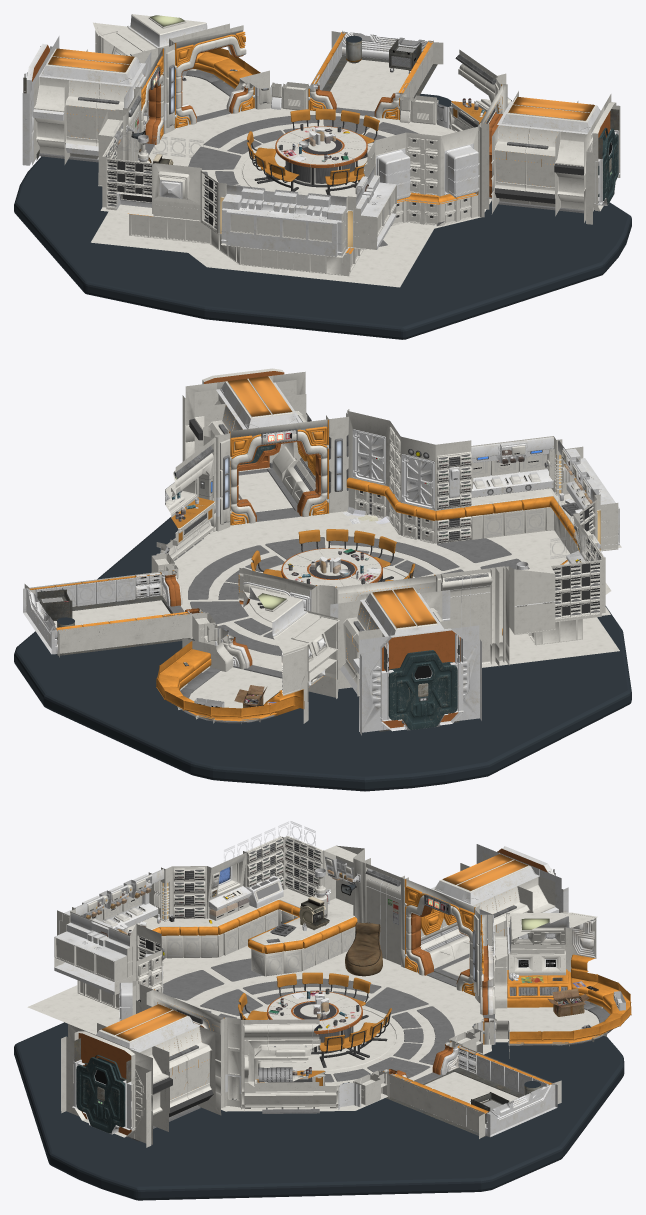
The model's file is diner-cutaway.glb.
3 renders of one model, top to bottom at view 1: azimuth 30°, elevation 25°; view 2: azimuth 150°, elevation 25°; view 3: azimuth 270°, elevation 25°, orthographic. The views are drawn at different scales.
Parts seen in each view (by area): view 1: Diorama_Base, DNR_mesh_227, DNR_mesh_232, DNR_mesh_253, DNR_mesh_228, DNR_mesh_233, DNR_mesh_231, DNR_mesh_218.001, DNR_mesh_265, DNR_mesh_162.001, DNR_mesh_93, DNR_mesh_83 (+43 smaller); view 2: Diorama_Base, DNR_mesh_227, DNR_mesh_265, DNR_mesh_232, DNR_mesh_228, DNR_mesh_231, DNR_mesh_93, DNR_mesh_160.003, DNR_mesh_164.001, DNR_mesh_233, DNR_mesh_253, DNR_mesh_75 (+46 smaller); view 3: Diorama_Base, DNR_mesh_227, DNR_mesh_228, DNR_mesh_265, DNR_mesh_232, DNR_mesh_93, DNR_mesh_233, DNR_mesh_253, DNR_mesh_75, DNR_mesh_184, DNR_mesh_218.001, DNR_mesh_234 (+50 smaller).
Part boxes in pixels (x1=…): Diorama_Base: x1=14, y1=94, x2=631, y2=339; DNR_mesh_227: x1=91, y1=108, x2=491, y2=287; DNR_mesh_232: x1=200, y1=164, x2=396, y2=276; DNR_mesh_253: x1=221, y1=167, x2=396, y2=256; DNR_mesh_228: x1=98, y1=110, x2=209, y2=243; DNR_mesh_233: x1=493, y1=94, x2=596, y2=216; DNR_mesh_231: x1=363, y1=126, x2=481, y2=226; DNR_mesh_218.001: x1=34, y1=46, x2=147, y2=164; DNR_mesh_265: x1=145, y1=107, x2=491, y2=249; DNR_mesh_162.001: x1=330, y1=59, x2=409, y2=111; DNR_mesh_93: x1=93, y1=14, x2=269, y2=91; DNR_mesh_83: x1=276, y1=126, x2=366, y2=166; Diorama_Base: x1=14, y1=517, x2=631, y2=791; DNR_mesh_227: x1=174, y1=511, x2=619, y2=671; DNR_mesh_265: x1=167, y1=512, x2=529, y2=678; DNR_mesh_232: x1=471, y1=436, x2=621, y2=564; DNR_mesh_228: x1=503, y1=513, x2=610, y2=662; DNR_mesh_231: x1=347, y1=409, x2=473, y2=543; DNR_mesh_93: x1=177, y1=587, x2=339, y2=723; DNR_mesh_160.003: x1=359, y1=625, x2=481, y2=735; DNR_mesh_164.001: x1=388, y1=650, x2=457, y2=729; DNR_mesh_233: x1=194, y1=376, x2=315, y2=504; DNR_mesh_253: x1=471, y1=437, x2=619, y2=545; DNR_mesh_75: x1=156, y1=641, x2=323, y2=721; Diorama_Base: x1=14, y1=1022, x2=624, y2=1200; DNR_mesh_227: x1=27, y1=945, x2=491, y2=1111; DNR_mesh_228: x1=207, y1=836, x2=364, y2=976; DNR_mesh_265: x1=162, y1=958, x2=495, y2=1113; DNR_mesh_232: x1=54, y1=866, x2=221, y2=1009; DNR_mesh_93: x1=494, y1=912, x2=607, y2=1058; DNR_mesh_233: x1=97, y1=1003, x2=215, y2=1131; DNR_mesh_253: x1=54, y1=868, x2=164, y2=994; DNR_mesh_75: x1=507, y1=954, x2=631, y2=1043; DNR_mesh_184: x1=244, y1=1023, x2=336, y2=1107; DNR_mesh_218.001: x1=420, y1=853, x2=555, y2=968; DNR_mesh_234: x1=61, y1=1024, x2=152, y2=1147.
Size of the model in its own units: 14.61 by 4.39 by 15.71.
243 materials, 239 textured.
